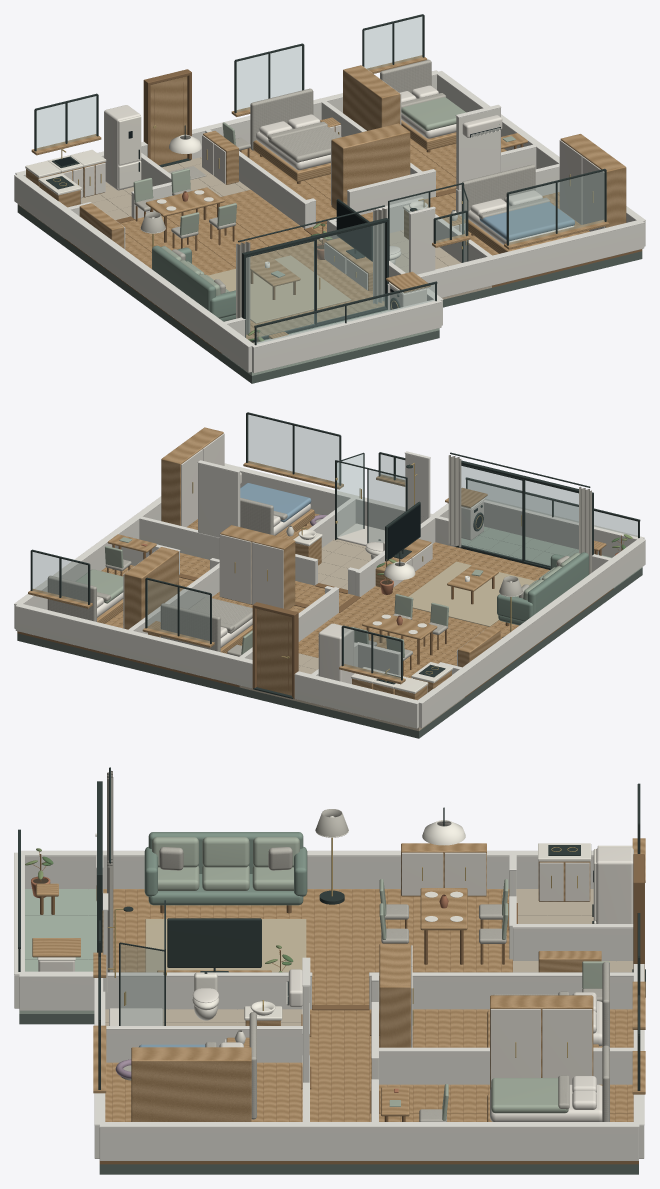
Rendered from 三房两厅.glb.
3 renders of one model, top to bottom at view 1: azimuth 30°, elevation 25°; view 2: azimuth 150°, elevation 25°; view 3: azimuth 270°, elevation 25°, orthographic. The views are drawn at different scales.
Parts seen in each view (by area): view 1: wall_west__lower, bedroom_guest__decor_1, architecture, slider_glass, wall_south__lower, slider_glass.001, dining_room__floor, living_room__floor, wall_balcony_front__lower, master_window_glass, bedroom__decor_4, bedroom_secondary__decor_2 (+63 smaller); view 2: wall_north_b__lower, wall_west__lower, architecture, living_room__floor, slider_glass.001, bedroom_guest__decor_3, master_window_glass, bedroom_secondary__decor_2, slider_glass, living_rug, bedroom__decor_2, wall_north_a__lower (+61 smaller); view 3: wall_east__lower, living_room__floor, bedroom__decor_2, bedroom_secondary__decor_4, wall_west__lower, architecture, hallway__floor, living_room__decor_0, dining_room__floor, wall_dining_guest__lower, wall_living_bath__lower, bedroom__floor (+51 smaller).
Boxes of the visible parts, x1,y1,x2,y2 form: wall_west__lower: (14, 176, 251, 372); bedroom_guest__decor_1: (231, 107, 410, 210); architecture: (17, 188, 642, 383); slider_glass: (246, 241, 314, 339); wall_south__lower: (421, 223, 644, 297); slider_glass.001: (317, 223, 384, 322); dining_room__floor: (65, 190, 302, 276); living_room__floor: (117, 228, 384, 353); wall_balcony_front__lower: (252, 302, 441, 373); master_window_glass: (509, 171, 604, 244); bedroom__decor_4: (453, 140, 605, 244); bedroom_secondary__decor_2: (343, 55, 527, 150); wall_north_b__lower: (15, 607, 252, 688); wall_west__lower: (419, 541, 645, 727); architecture: (17, 568, 642, 738); living_room__floor: (337, 542, 613, 660); slider_glass.001: (461, 466, 521, 559); bedroom_guest__decor_3: (219, 534, 283, 647); master_window_glass: (248, 414, 338, 484); bedroom_secondary__decor_2: (28, 534, 178, 629); slider_glass: (525, 480, 578, 565); living_rug: (408, 561, 535, 626); bedroom__decor_2: (161, 427, 343, 539); wall_north_a__lower: (294, 675, 418, 728); wall_east__lower: (99, 1127, 638, 1160); living_room__floor: (102, 889, 375, 1004); bedroom__decor_2: (93, 1025, 251, 1121); bedroom_secondary__decor_4: (490, 1009, 602, 1121); wall_west__lower: (25, 856, 593, 889); architecture: (19, 903, 638, 1174); hallway__floor: (306, 1009, 375, 1164); living_room__decor_0: (152, 837, 299, 890); dining_room__floor: (375, 889, 512, 972); wall_dining_guest__lower: (369, 976, 633, 1009); wall_living_bath__lower: (105, 976, 311, 1009); bedroom__floor: (99, 1062, 306, 1164).
Size of the model in its own units: 11.39 by 3 by 11.01.
29 materials, 2 textured.
